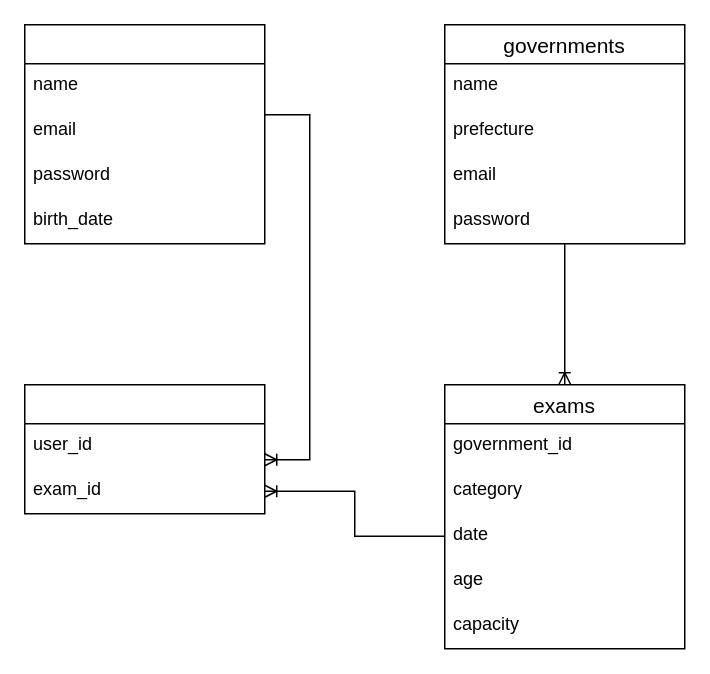
Image size: 710x674. Some labels were removed from this diagram. Here are the shapes that lost their labels. From the top down, the box of each, then its label:
(23, 23, 265, 244): users
(23, 383, 265, 514): likes
